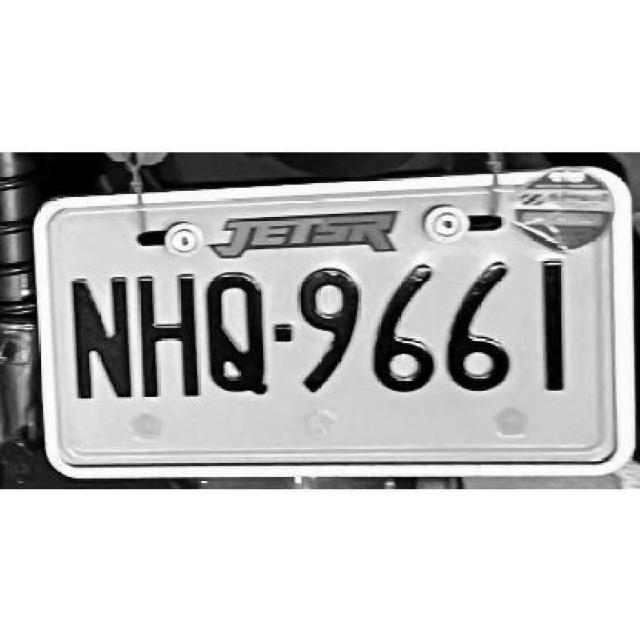-: (275, 322, 294, 340)
1: (540, 255, 566, 394)
6: (446, 249, 519, 389), (366, 257, 439, 394)
9: (294, 263, 360, 395)
H: (132, 272, 198, 400)
N: (66, 269, 132, 400)
Q: (202, 267, 268, 398)
